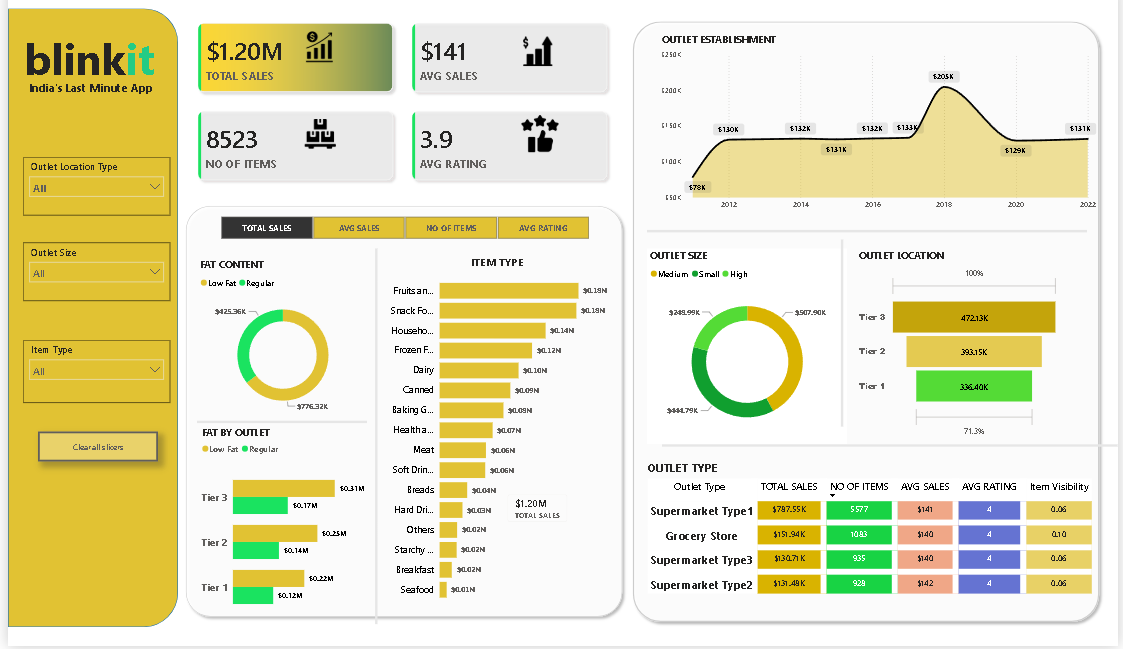

What the dashboard file says about the page in this screenshot:
{"tool":"powerbi","page":{"name":"Page 1","canvas":[1850,1100],"ordinal":0},"visuals":[{"type":"shape","box":[0,38.1,283.3,1031],"z":0},{"type":"textbox","box":[15,149,245.2,57.1],"z":1000},{"type":"cardVisual","fields":{"Data":["BlinkIT Grocery Data.TOTAL SALES","BlinkIT Grocery Data.AVG SALES","BlinkIT Grocery Data.NO OF ITEMS","BlinkIT Grocery Data.AVG RATING"]},"box":[288.1,33.3,740.5,321.4],"z":2000},{"type":"shape","box":[288.1,357.1,745.2,702.4],"z":3000},{"type":"slicer","fields":{"Values":["Metrics.Metrics"]},"box":[331,378.6,661.9,50],"z":4000},{"type":"cardVisual","fields":{"Data":["BlinkIT Grocery Data.TOTAL SALES"]},"box":[815.2,830.4,134.8,80.4],"z":5000},{"type":"clusteredBarChart","title":"FAT BY OUTLET","fields":{"Y":["BlinkIT Grocery Data.TOTAL SALES"],"Category":["BlinkIT Grocery Data.Outlet Location Type"],"Series":["BlinkIT Grocery Data.Item Fat Content"]},"box":[316.7,733.3,283.3,335.7],"z":6000},{"type":"shape","box":[590.5,438.1,47.6,626.2],"z":7000},{"type":"barChart","title":"           ITEM TYPE","fields":{"Y":["BlinkIT Grocery Data.TOTAL SALES"],"Category":["BlinkIT Grocery Data.Item Type"]},"box":[619,447.6,390.5,590.5],"z":8000},{"type":"shape","box":[1033.3,50,795.2,1019],"z":9000},{"type":"lineChart","title":"OUTLET    ESTABLISHMENT","fields":{"Category":["BlinkIT Grocery Data.Outlet Establishment Year"],"Y":["BlinkIT Grocery Data.TOTAL SALES"]},"box":[1085.7,78.6,733.3,304.8],"z":10000},{"type":"shape","box":[1128.3,695.7,223.9,15.2],"z":11000},{"type":"shape","box":[282.6,0,630.4,34.8],"z":12000},{"type":"donutChart","title":"OUTLET SIZE","fields":{"Y":["BlinkIT Grocery Data.TOTAL SALES"],"Category":["BlinkIT Grocery Data.Outlet Size"]},"box":[1064.3,438.1,333.3,326.2],"z":13000},{"type":"funnel","title":"OUTLET LOCATION","fields":{"Y":["Sum(BlinkIT Grocery Data.Sales)"],"Category":["BlinkIT Grocery Data.Outlet Location Type"]},"box":[1411.9,438.1,342.9,321.4],"z":14000},{"type":"shape","box":[1366.7,421.4,45.2,311.9],"z":15000},{"type":"pivotTable","title":"OUTLET TYPE","fields":{"Rows":["BlinkIT Grocery Data.Outlet Type"],"Values":["BlinkIT Grocery Data.TOTAL SALES","BlinkIT Grocery Data.NO OF ITEMS","BlinkIT Grocery Data.AVG SALES","BlinkIT Grocery Data.AVG RATING","Avg(BlinkIT Grocery Data.Item Visibility)"]},"box":[1064.3,790.5,759.5,269],"z":16000},{"type":"slicer","fields":{"Values":["BlinkIT Grocery Data.Outlet Location Type"]},"box":[26.2,285.7,245.2,97.6],"z":17000},{"type":"slicer","fields":{"Values":["BlinkIT Grocery Data.Outlet Size"]},"box":[26.2,428.6,245.2,97.6],"z":18000},{"type":"slicer","fields":{"Values":["BlinkIT Grocery Data.Item Type"]},"box":[26.2,590.5,245.2,104.8],"z":19000},{"type":"image","box":[845.2,83.3,76.2,52.4],"z":20000},{"type":"image","box":[845.2,214.3,83.3,61.9],"z":21000},{"type":"image","box":[483.3,219,76.2,52.4],"z":22000},{"type":"image","box":[476.2,76.2,88.1,52.4],"z":23000},{"type":"donutChart","title":"FAT CONTENT ","fields":{"Y":["BlinkIT Grocery Data.TOTAL SALES"],"Category":["BlinkIT Grocery Data.Item Fat Content"]},"box":[314.3,452.4,285.7,273.8],"z":24000},{"type":"shape","box":[1064.3,381,733.3,57.1],"z":25000},{"type":"shape","box":[1090.5,733.3,759.5,66.7],"z":26000},{"type":"shape","box":[314.3,707.1,283.3,38.1],"z":27000},{"type":"actionButton","box":[50,742.9,200,50],"z":28000},{"type":"textbox","box":[19,66,231,112],"z":29000}]}

Visuals, with their boxes in screenshot pixels (x1, y1, x2, y2), scaled from the page's 1850x1100 canvas onto the 1123x649 screenshot:
shape: [left=0, top=22, right=172, bottom=631]
textbox: [left=9, top=88, right=158, bottom=122]
cardVisual - BlinkIT Grocery Data.TOTAL SALES x BlinkIT Grocery Data.AVG SALES: [left=175, top=20, right=624, bottom=209]
shape: [left=175, top=211, right=627, bottom=625]
slicer - Metrics.Metrics: [left=201, top=223, right=603, bottom=253]
cardVisual - BlinkIT Grocery Data.TOTAL SALES: [left=495, top=490, right=577, bottom=537]
"FAT BY OUTLET" clusteredBarChart: [left=192, top=433, right=364, bottom=631]
shape: [left=358, top=258, right=387, bottom=628]
"           ITEM TYPE" barChart: [left=376, top=264, right=613, bottom=612]
shape: [left=627, top=30, right=1110, bottom=631]
"OUTLET    ESTABLISHMENT" lineChart: [left=659, top=46, right=1104, bottom=226]
shape: [left=685, top=410, right=821, bottom=419]
shape: [left=172, top=0, right=554, bottom=21]
"OUTLET SIZE" donutChart: [left=646, top=258, right=848, bottom=451]
"OUTLET LOCATION" funnel: [left=857, top=258, right=1065, bottom=448]
shape: [left=830, top=249, right=857, bottom=433]
"OUTLET TYPE" pivotTable: [left=646, top=466, right=1107, bottom=625]
slicer - BlinkIT Grocery Data.Outlet Location Type: [left=16, top=169, right=165, bottom=226]
slicer - BlinkIT Grocery Data.Outlet Size: [left=16, top=253, right=165, bottom=310]
slicer - BlinkIT Grocery Data.Item Type: [left=16, top=348, right=165, bottom=410]
image: [left=513, top=49, right=559, bottom=80]
image: [left=513, top=126, right=564, bottom=163]
image: [left=293, top=129, right=340, bottom=160]
image: [left=289, top=45, right=343, bottom=76]
"FAT CONTENT " donutChart: [left=191, top=267, right=364, bottom=428]
shape: [left=646, top=225, right=1091, bottom=258]
shape: [left=662, top=433, right=1122, bottom=472]
shape: [left=191, top=417, right=363, bottom=440]
actionButton: [left=30, top=438, right=152, bottom=468]
textbox: [left=12, top=39, right=152, bottom=105]
